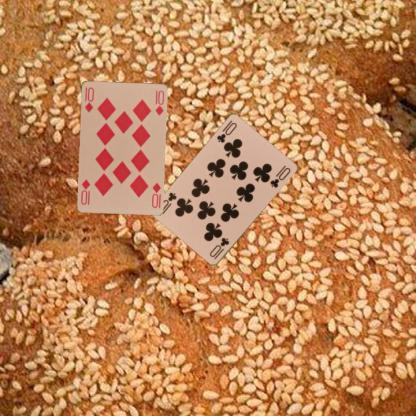10c: (214, 120, 238, 145), (207, 235, 230, 261)
10d: (82, 84, 95, 113), (149, 180, 162, 209)
